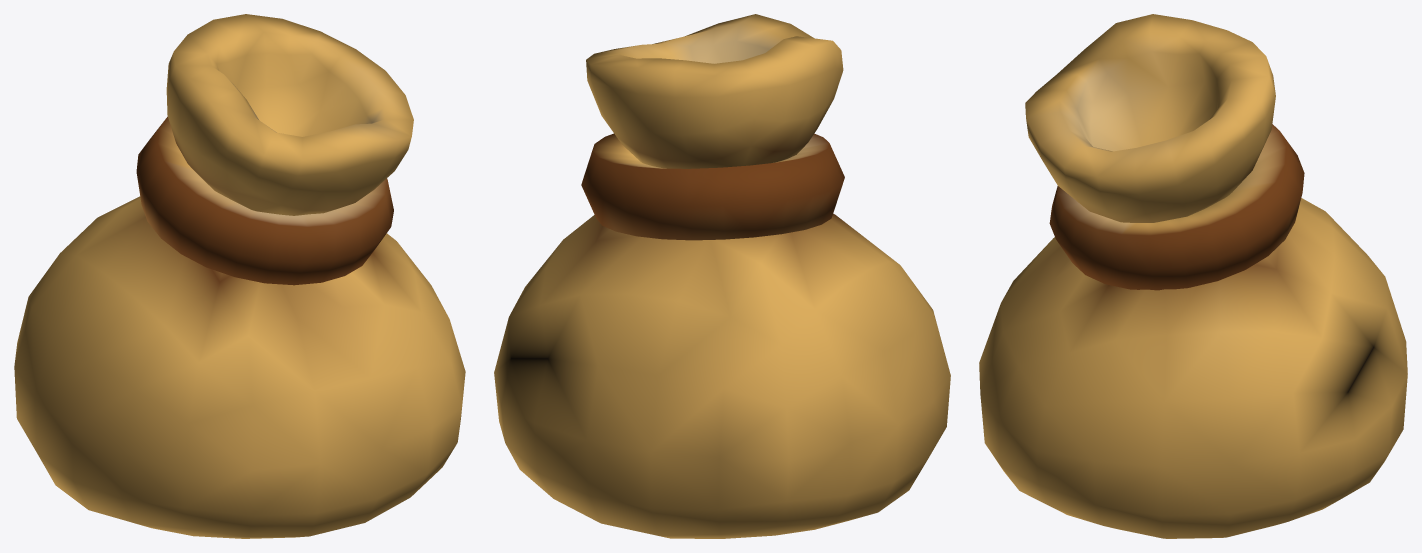
The model's file is ItemPocket.fbx.
The picture shows the model from 3 angles, left to right: view 1: azimuth 30°, elevation 25°; view 2: azimuth 150°, elevation 25°; view 3: azimuth 270°, elevation 25°; orthographic projection. The views are drawn at different scales.
Parts seen in each view (by area): view 1: SM_DefaultItem_LOD0.mo; view 2: SM_DefaultItem_LOD0.mo; view 3: SM_DefaultItem_LOD0.mo.
Boxes of the visible parts, x1,y1,x2,y2 form: SM_DefaultItem_LOD0.mo: (14,14,465,538); SM_DefaultItem_LOD0.mo: (494,14,950,538); SM_DefaultItem_LOD0.mo: (979,14,1407,538).
Size of the model in its own units: 83.84 by 91.45 by 82.96.
